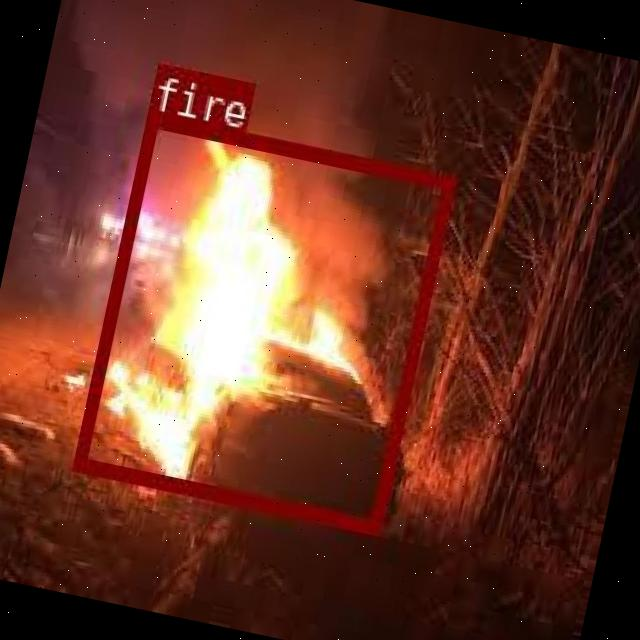fire: (70, 108, 454, 532)
